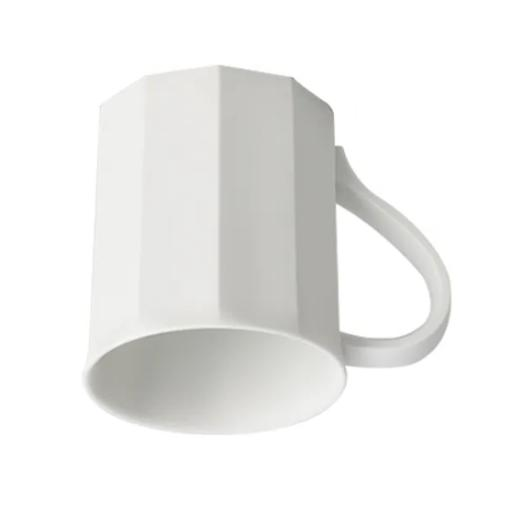cup: (85, 67, 447, 433)
